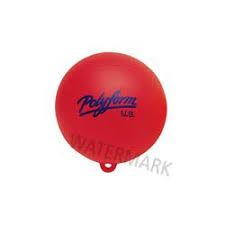buoy: (56, 53, 167, 161)
